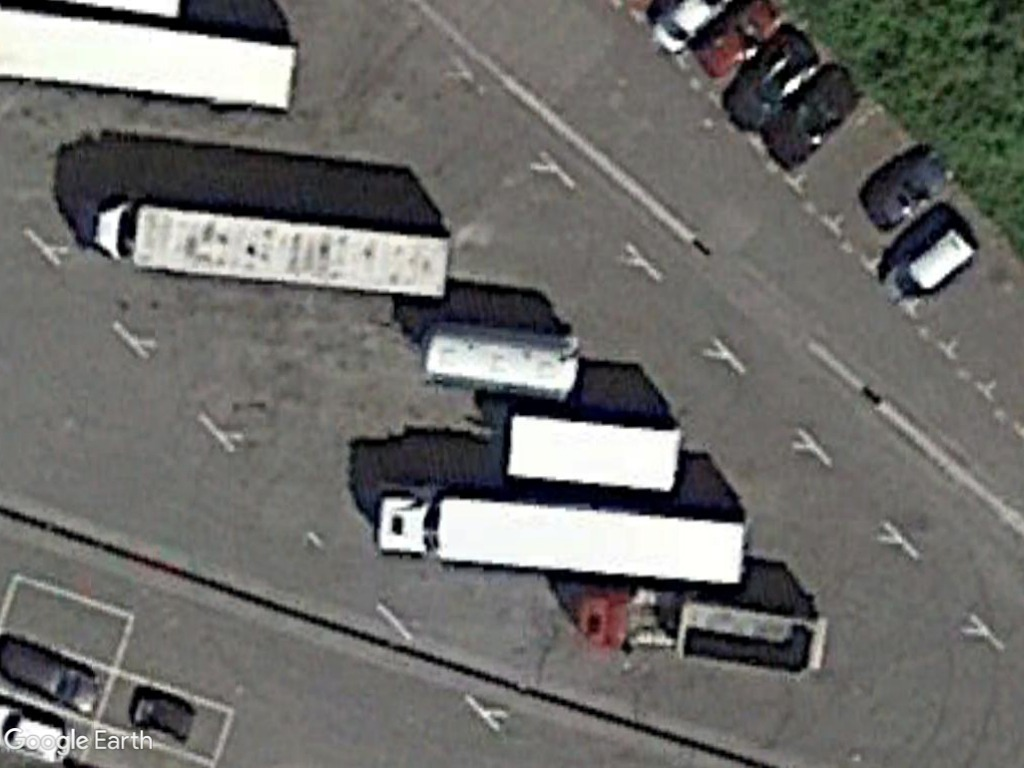longvehicle: (364, 479, 752, 586), (88, 197, 455, 305), (496, 409, 686, 499)
other: (565, 576, 830, 678)
